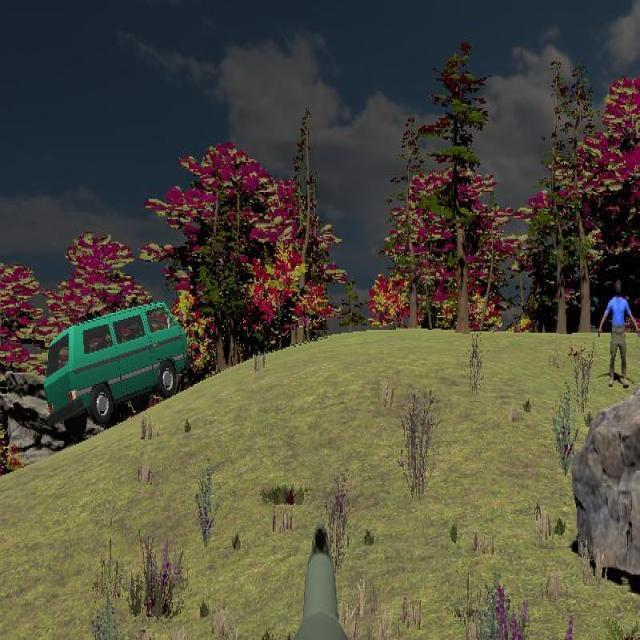Human: (598, 278, 639, 388)
car: (45, 302, 191, 434)
